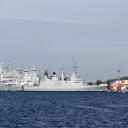Fragata: (22, 63, 110, 94)
